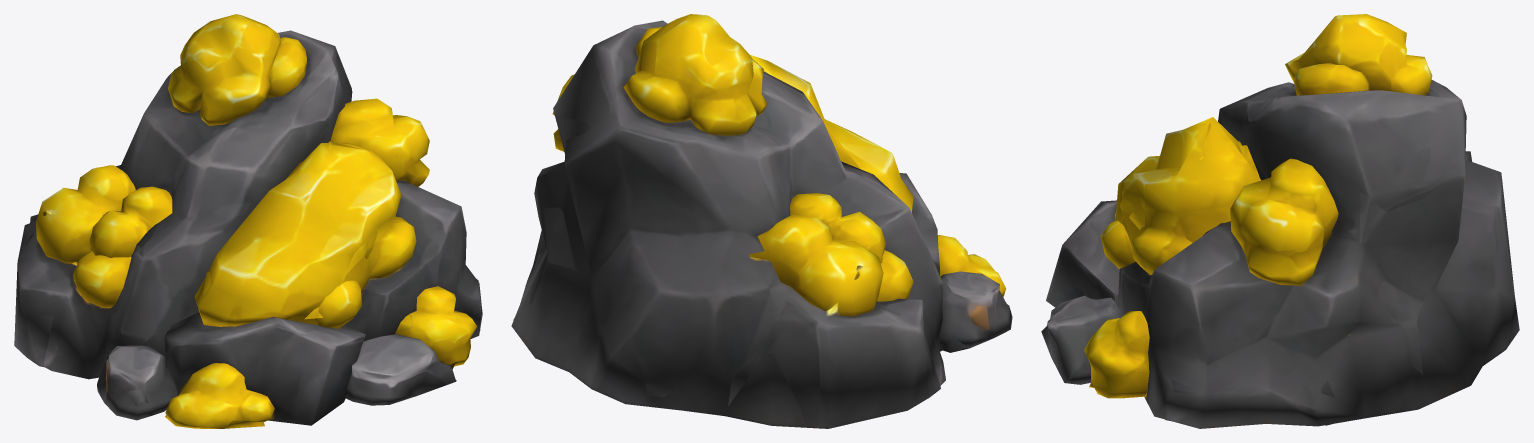
File: node-sulfur.glb
3 renders of one model, left to right at view 1: azimuth 30°, elevation 25°; view 2: azimuth 150°, elevation 25°; view 3: azimuth 270°, elevation 25°, orthographic. The views are drawn at different scales.
Parts seen in each view (by area): view 1: geometry_0; view 2: geometry_0; view 3: geometry_0.
Boxes of the visible parts, x1,y1,x2,y2 form: geometry_0: [14, 14, 482, 428]; geometry_0: [511, 14, 1012, 428]; geometry_0: [1041, 14, 1519, 428].
Size of the model in its own units: 1 by 0.7157 by 0.9675.
1 material, 1 textured.
